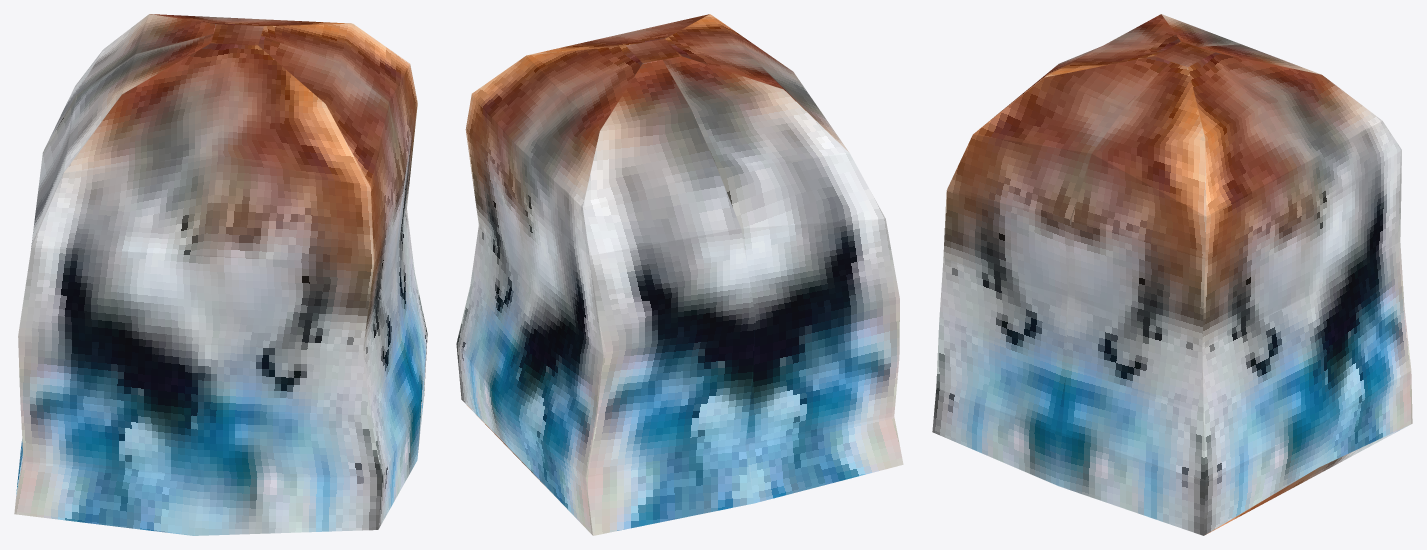
The picture shows the model from 3 angles, left to right: view 1: azimuth 30°, elevation 25°; view 2: azimuth 150°, elevation 25°; view 3: azimuth 270°, elevation 25°; orthographic projection. The views are drawn at different scales.
Parts seen in each view (by area): view 1: SPLICE_2.007; view 2: SPLICE_2.007; view 3: SPLICE_2.007.
Part boxes in pixels (x1=…): SPLICE_2.007: x1=14, y1=14, x2=427, y2=535; SPLICE_2.007: x1=456, y1=14, x2=903, y2=535; SPLICE_2.007: x1=932, y1=14, x2=1412, y2=535.
Size of the model in its own units: 1.12 by 1 by 1.11.
Materials: 1 (1 with a texture image).
